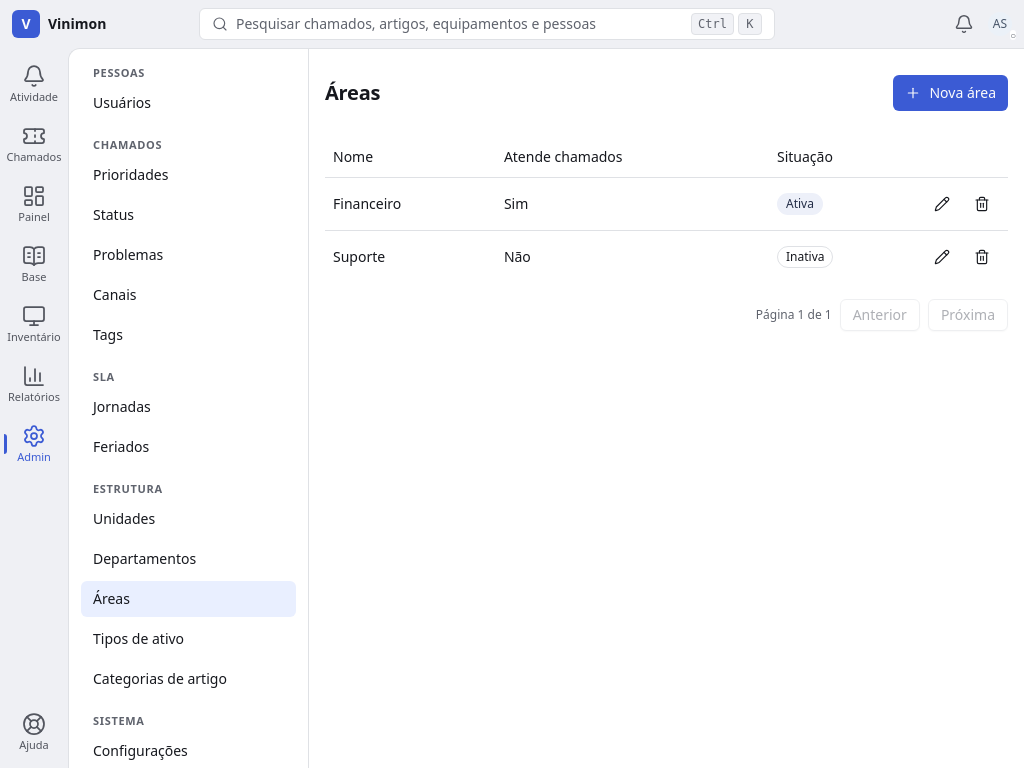
Test: /admin/areas › (c) 409 ao excluir área em uso mostra a mensagem do servidor
The width and height of the screenshot is (1024, 768).
Click the button named "Excluir Financeiro" at {"x": 982, "y": 204}, box [964, 186, 1000, 222]
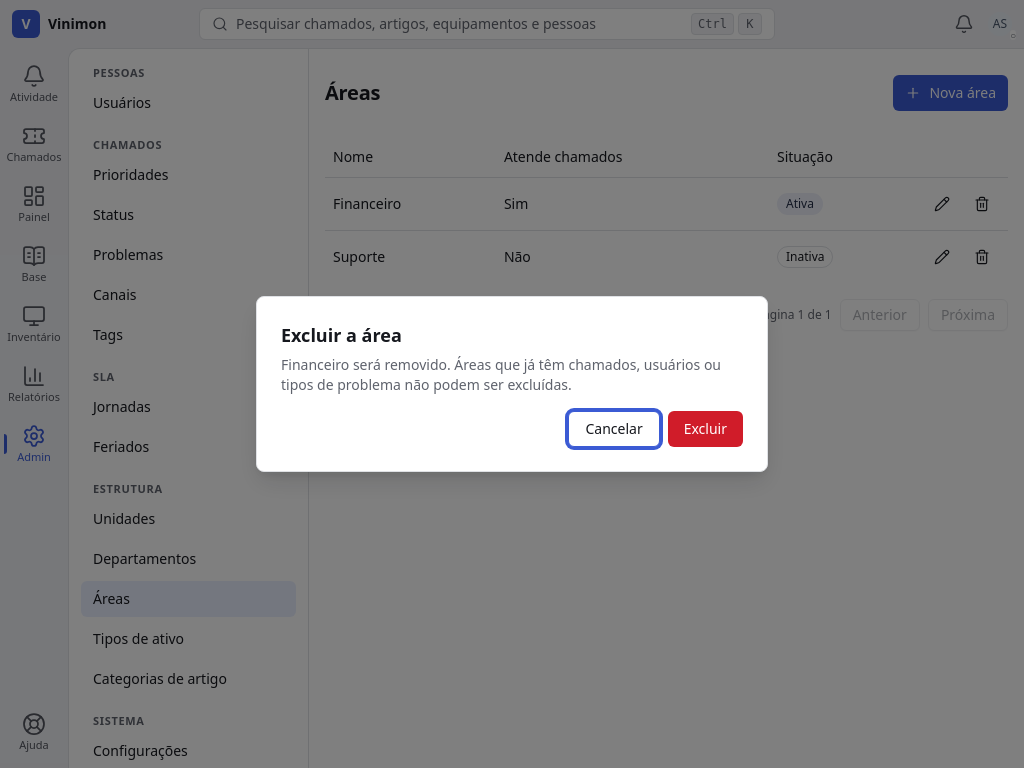
Click the button "Excluir" at {"x": 705, "y": 429}, box [668, 411, 743, 447]
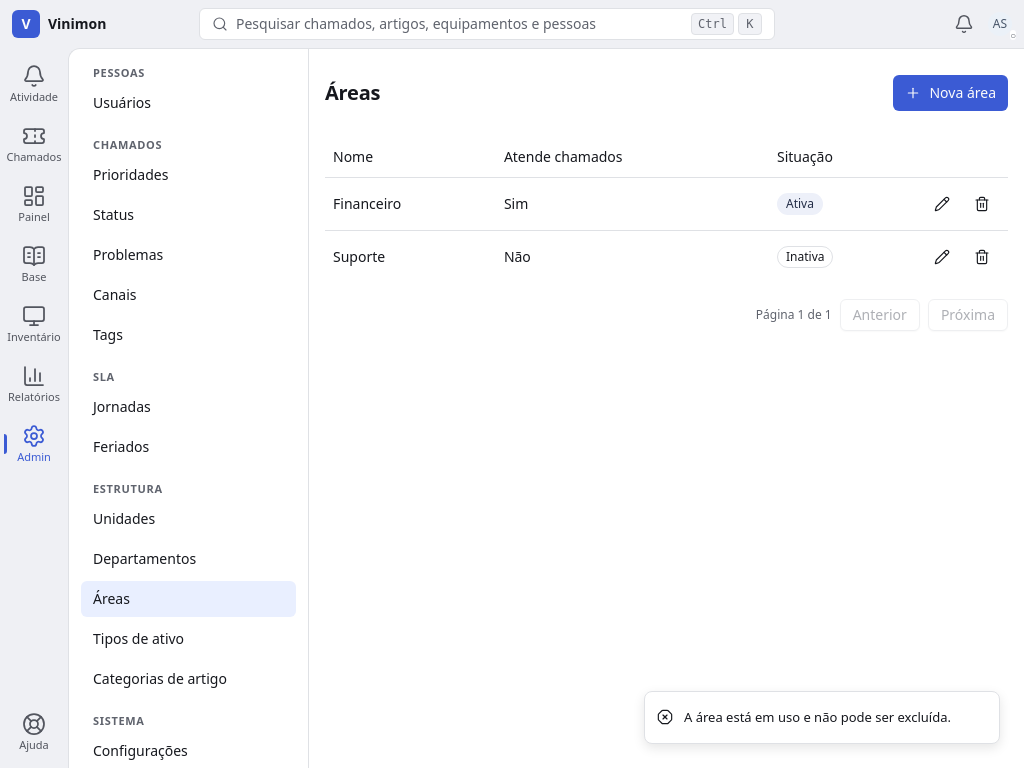
Now the text "A área está em uso e não pode ser excluída." is shown, box [684, 708, 951, 727]
